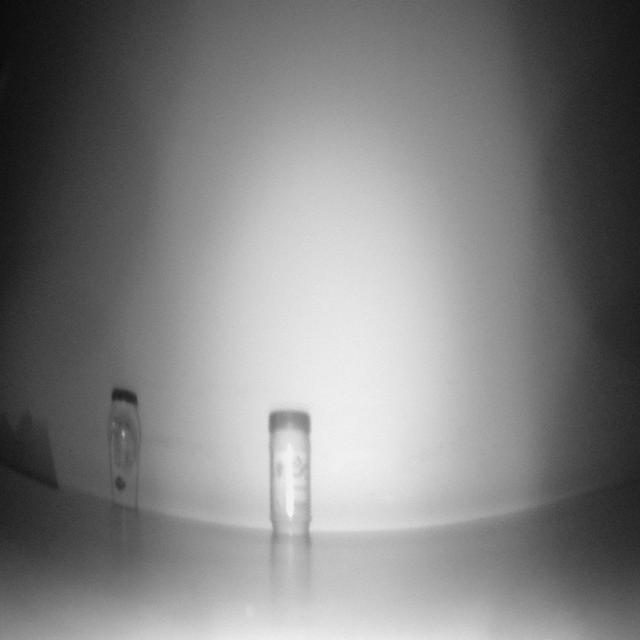targets: (270, 414, 310, 532), (110, 385, 143, 514)
